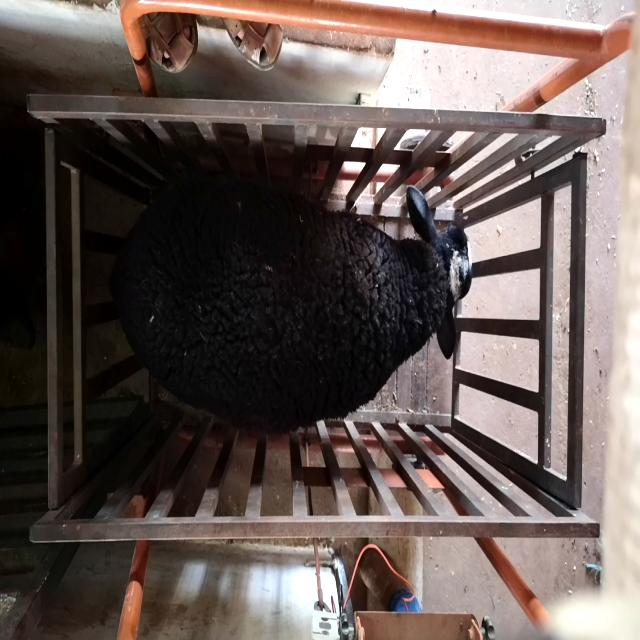sheep: (109, 173, 473, 434)
